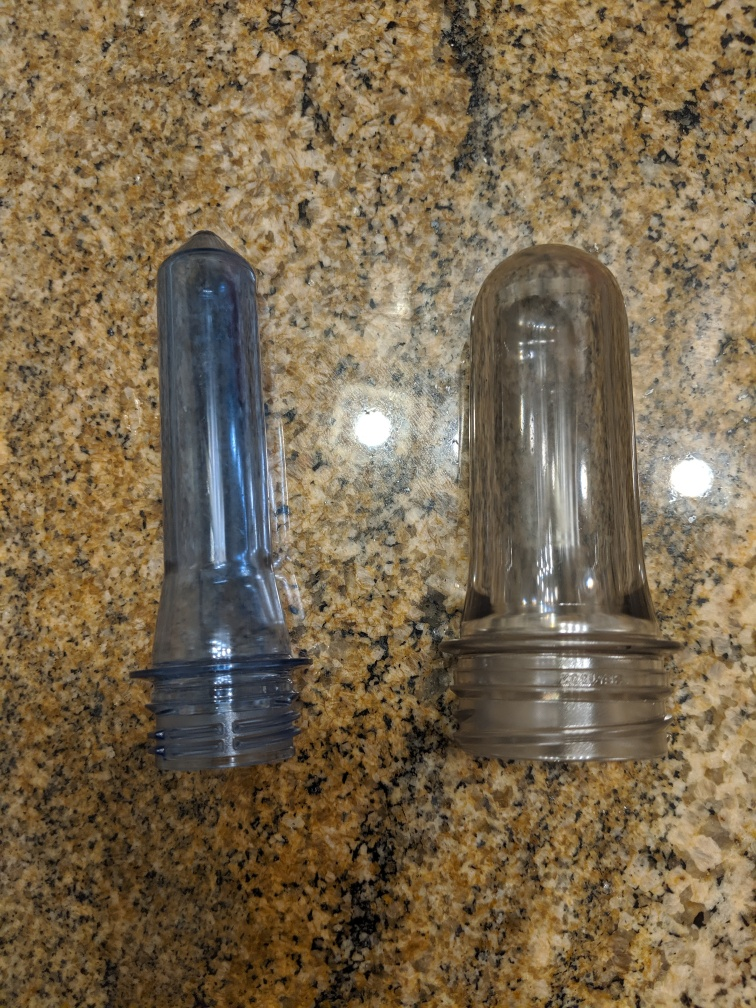preform: (428, 233, 692, 787), (121, 219, 328, 781)
